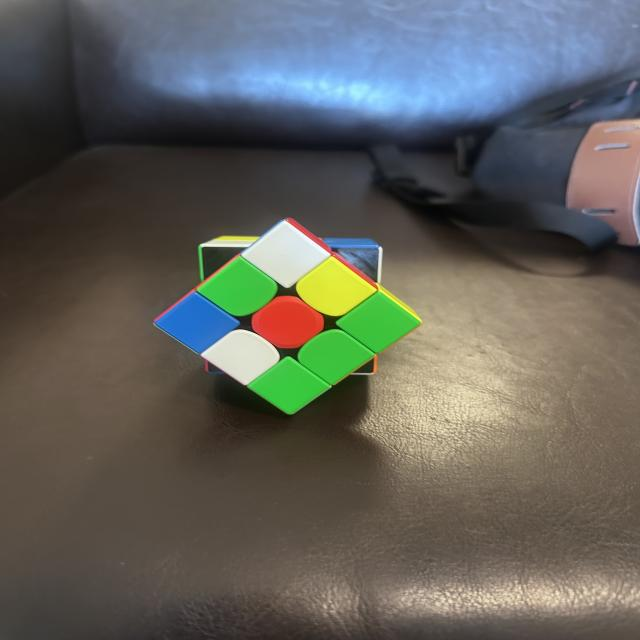sticker: (240, 218, 332, 290), (336, 288, 422, 355), (153, 290, 240, 355), (296, 255, 376, 317), (247, 356, 331, 415), (198, 254, 277, 316), (200, 329, 280, 387), (296, 329, 374, 386), (250, 294, 326, 351), (197, 236, 262, 282), (321, 238, 382, 285), (377, 285, 421, 325)
